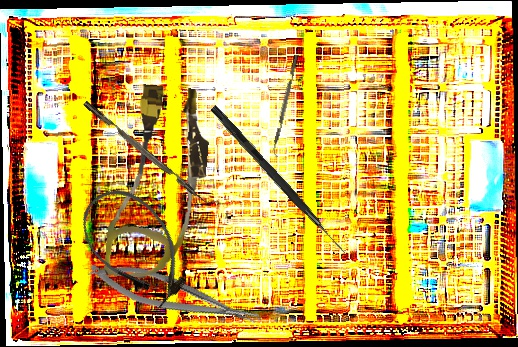Cannula: (103, 82, 214, 283), (67, 173, 204, 320)
Chopper: (82, 94, 220, 212), (269, 54, 304, 158)
Hook Surgical: (208, 104, 350, 256)
Needle Holder: (84, 250, 261, 341)
